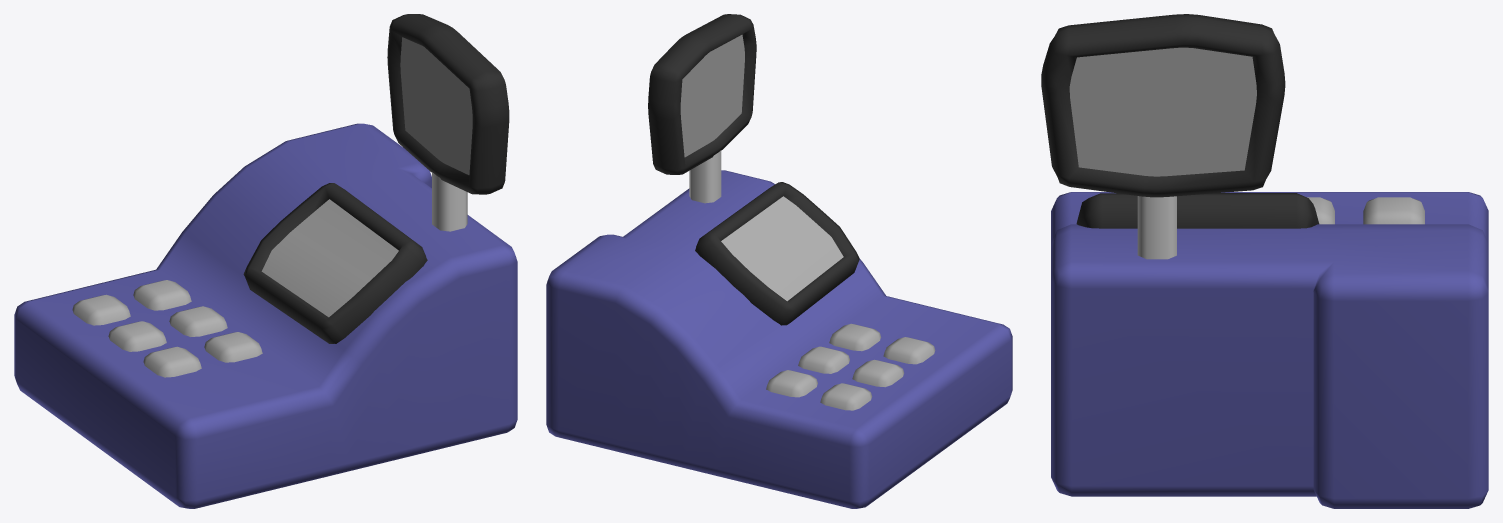
Rendered from mdl_cash.fbx.
3 renders of one model, left to right at view 1: azimuth 30°, elevation 25°; view 2: azimuth 150°, elevation 25°; view 3: azimuth 270°, elevation 25°, orthographic. The views are drawn at different scales.
Parts seen in each view (by area): view 1: polySurface10; view 2: polySurface10; view 3: polySurface10.
Part boxes in pixels (bbox=[...]): polySurface10: bbox=[14, 14, 517, 508]; polySurface10: bbox=[546, 14, 1012, 508]; polySurface10: bbox=[1041, 14, 1488, 508].
Size of the model in its own units: 41.94 by 41.64 by 36.1.
